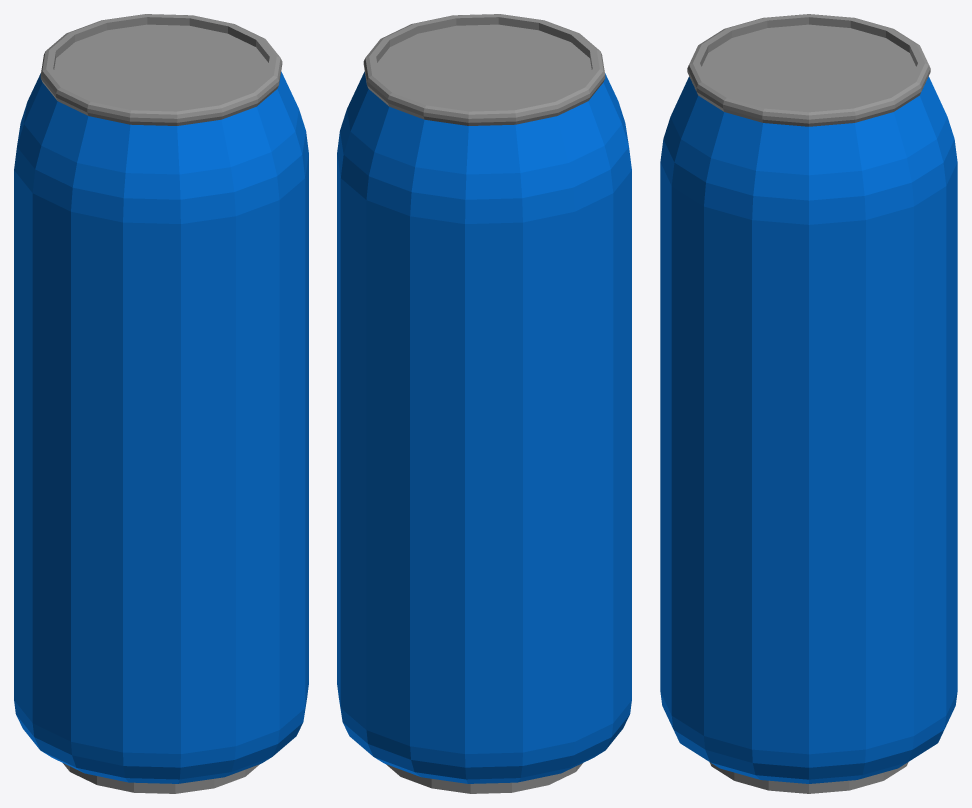
Rendered from can.gltf.
3 views of the same model, side by side, from view 1: azimuth 30°, elevation 25°; view 2: azimuth 150°, elevation 25°; view 3: azimuth 270°, elevation 25° (orthographic).
Parts seen in each view (by area): view 1: Circle.006; view 2: Circle.006; view 3: Circle.006.
Boxes of the visible parts, left/top/right/bottom form: Circle.006: left=14, top=14, right=308, bottom=793; Circle.006: left=337, top=14, right=631, bottom=793; Circle.006: left=660, top=14, right=957, bottom=793.
Size of the model in its own units: 0.4798 by 1.22 by 0.4798.
